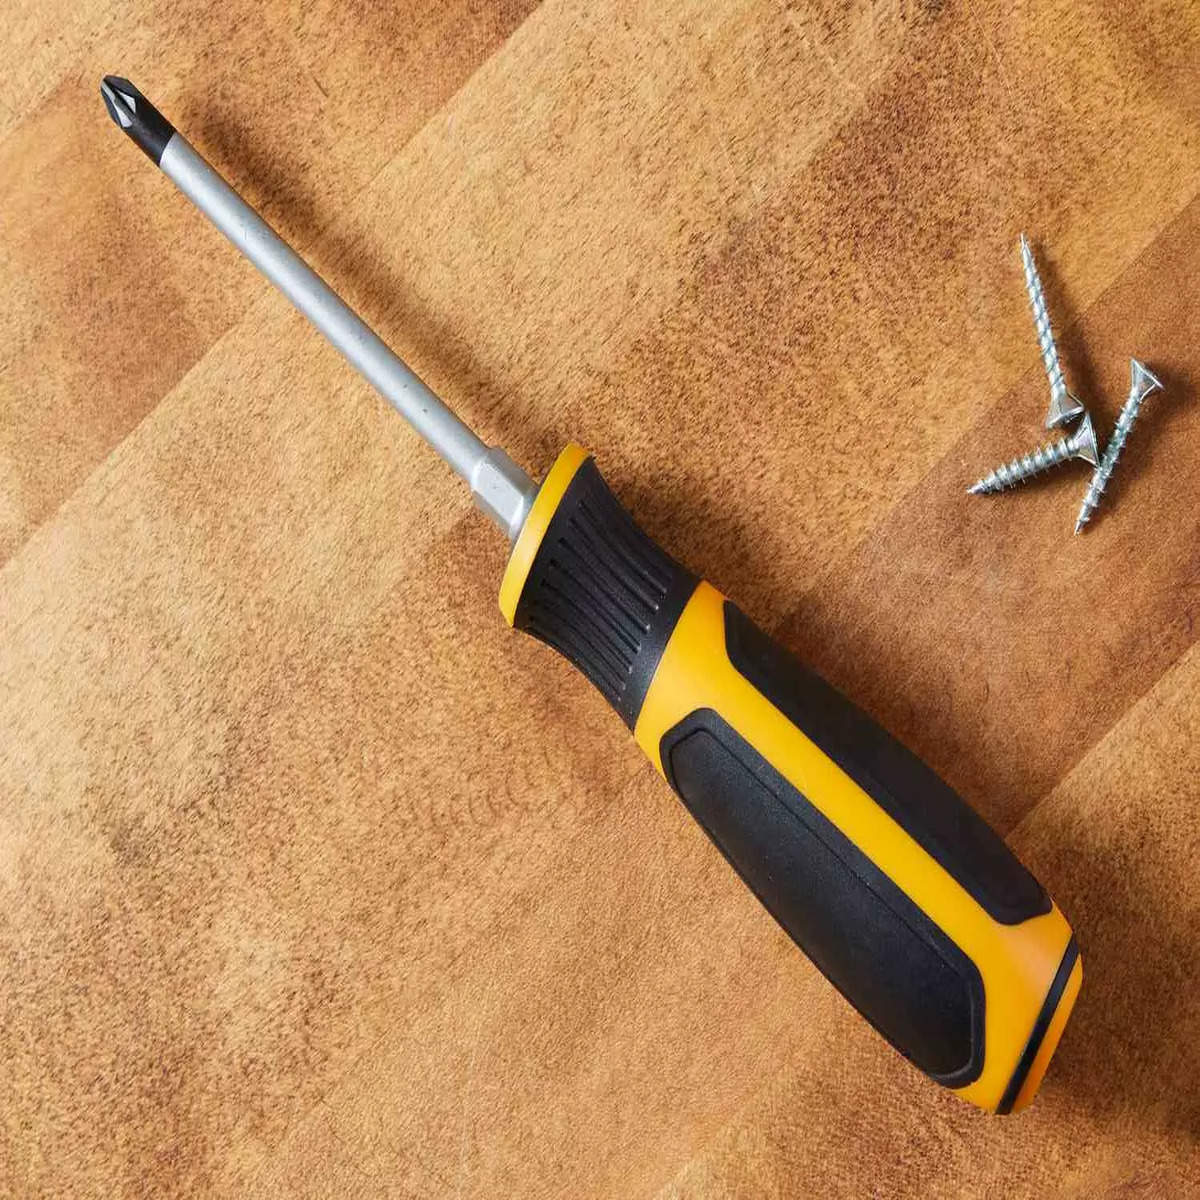screwdriver: (99, 79, 1087, 1122)
